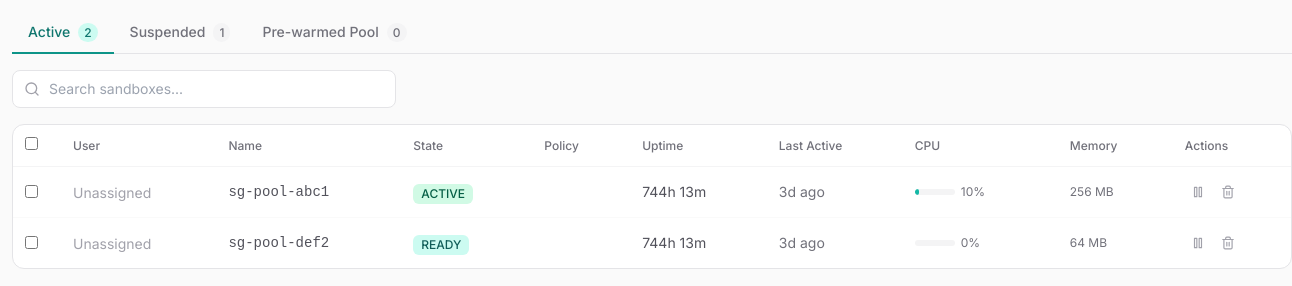
Test: Sandboxes page › filters sandboxes by search term
The image size is (1292, 286).
Expected: the text "sg-pool-abc1" is shown, [208, 166, 393, 218]
Step 1. Type "abc1" into the field with placeholder "Search sandboxes..." → (204, 89), box [12, 70, 396, 108]
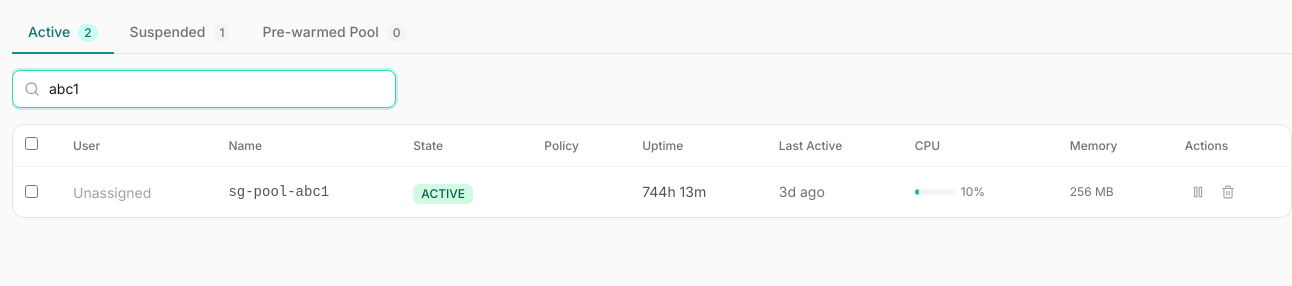
Expected: the text "sg-pool-abc1" is shown, [208, 166, 393, 217]
Result: the text "sg-pool-def2" is gone
